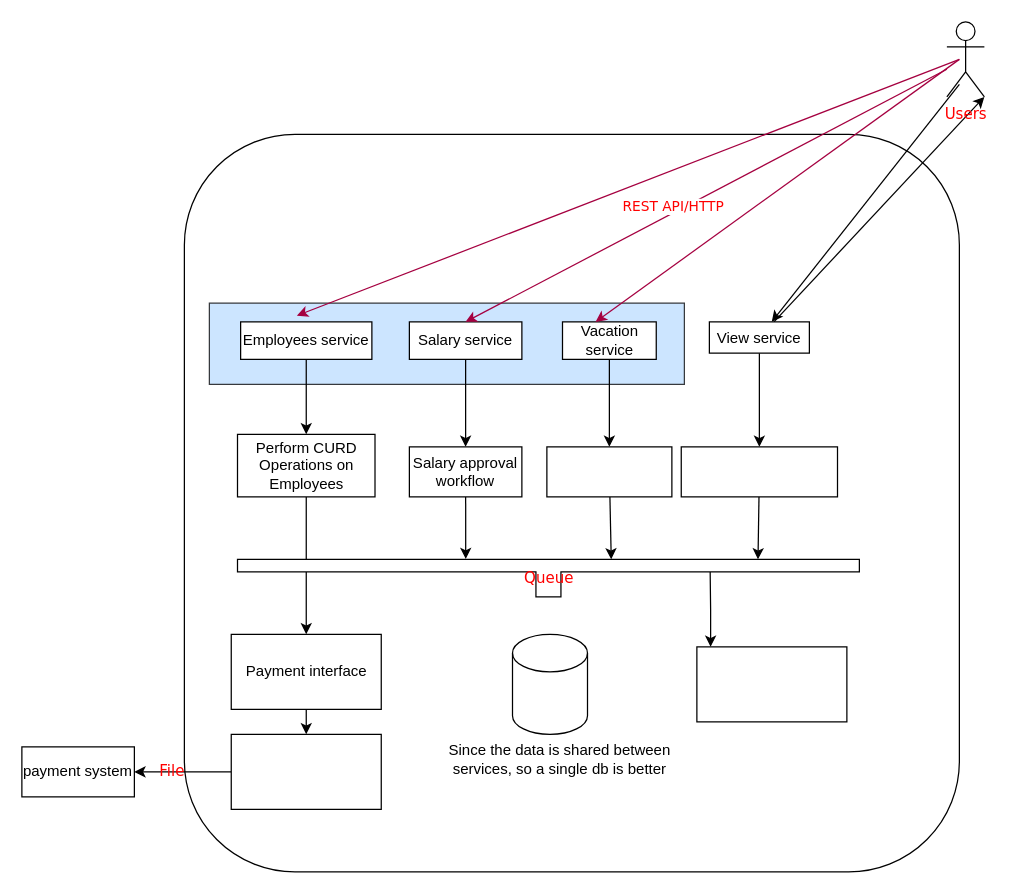
Image size: 1016x894. Some labels were removed from this diagram. The centre of each missing label's shape, as x and y in pixels:
"Data store" belongs at pixel 549 683.
"Employees vacation mgmt" belongs at pixel 609 471.
"Logging" belongs at pixel 771 684.
"Return static files to browsers(html,cs,js)" belongs at pixel 759 471.
"send payment data to payment system" belongs at pixel 305 771.
